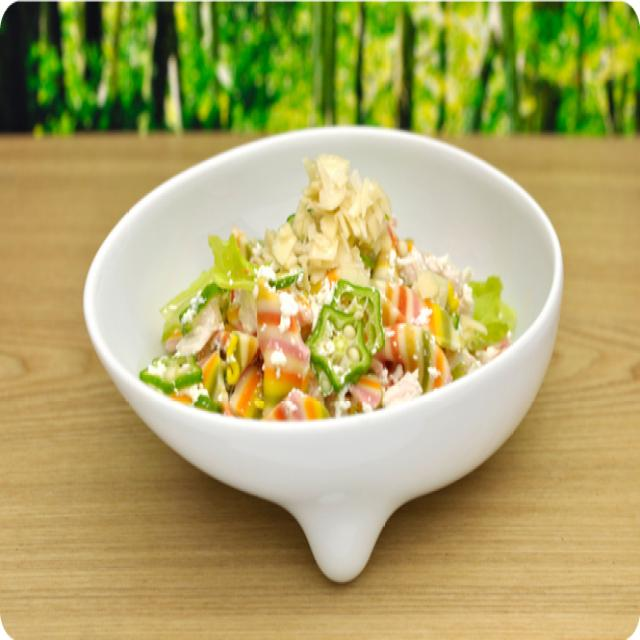蔬菜料理: (80, 121, 564, 583)
